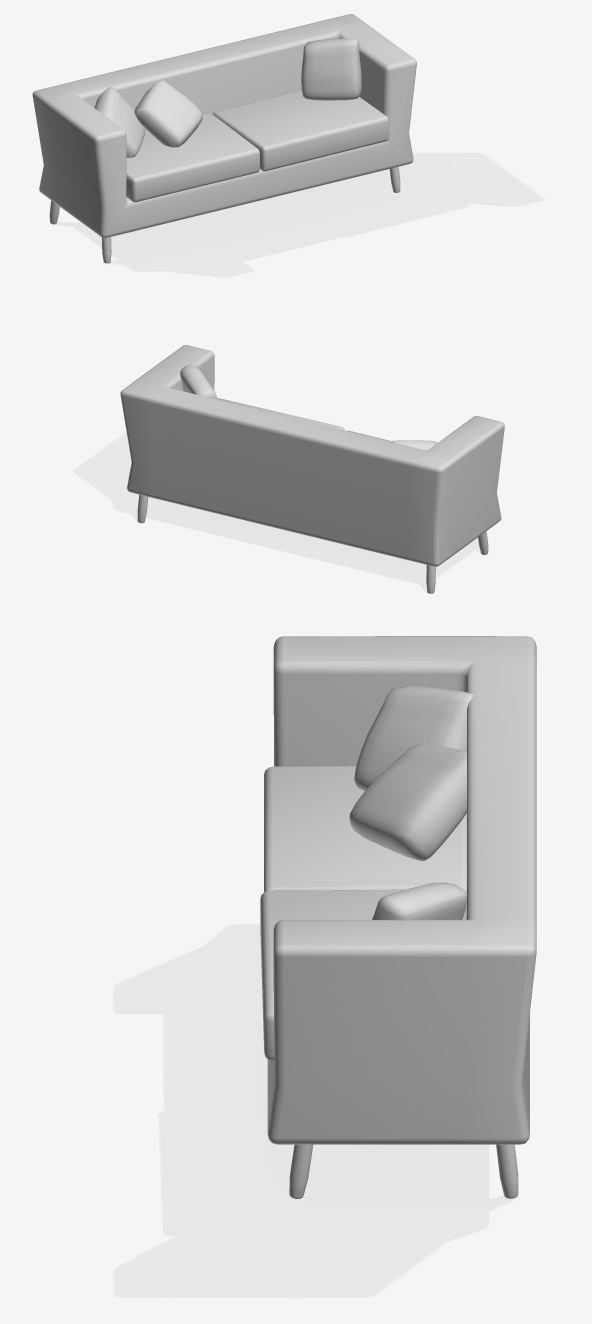
Rendered from couch.glb.
3 views of the same model, one above another, from view 1: azimuth 30°, elevation 25°; view 2: azimuth 150°, elevation 25°; view 3: azimuth 270°, elevation 25° (orthographic). The views are drawn at different scales.
Parts seen in each view (by area): view 1: main, Plane, pillow_big, pillow_smol, stools; view 2: main, Plane, pillow_smol, stools, pillow_big; view 3: main, Plane, pillow_big, pillow_smol, stools.
Boxes of the visible parts, x1,y1,x2,y2 form: main: (32, 14, 416, 237); Plane: (51, 152, 544, 277); pillow_big: (126, 90, 388, 202); pillow_smol: (94, 38, 361, 157); stools: (49, 166, 400, 263); main: (120, 345, 504, 566); Plane: (73, 432, 489, 593); pillow_smol: (180, 364, 437, 450); stools: (137, 494, 488, 593); pillow_big: (218, 398, 391, 441); main: (267, 636, 536, 1144); Plane: (113, 924, 516, 1297); pillow_big: (260, 766, 466, 1061); pillow_smol: (349, 685, 473, 920); stools: (289, 1144, 518, 1198).
Size of the model in its own units: 15.55 by 4.8 by 8.05.
Materials: 2 (1 with a texture image).
